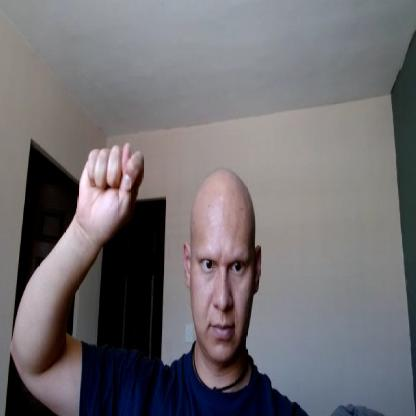T: (76, 138, 145, 234)
